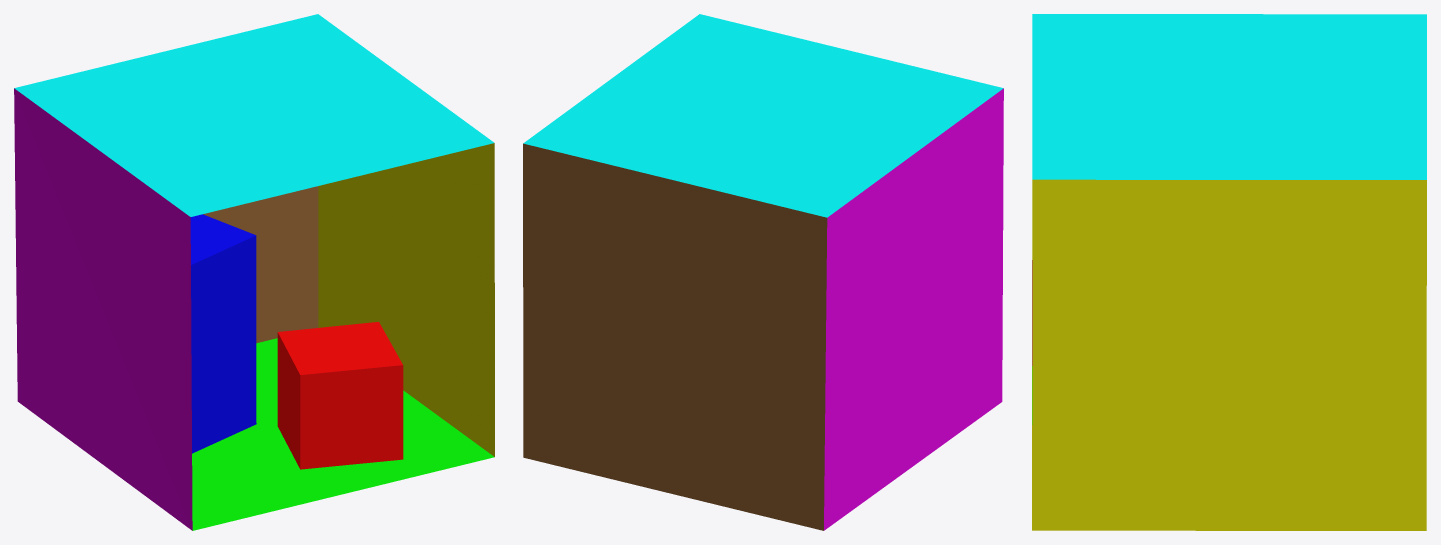
File: cornell-box.obj
3 views of the same model, side by side, from view 1: azimuth 30°, elevation 25°; view 2: azimuth 150°, elevation 25°; view 3: azimuth 270°, elevation 25° (orthographic). The views are drawn at different scales.
Visible parts, largest first — view 1: left_wall, ceiling, right_wall, floor, short_box, tall_box, back_wall; view 2: back_wall, left_wall, ceiling; view 3: right_wall, ceiling.
Boxes of the visible parts, box(x1,y1,x2,y2) form: left_wall: box(14, 88, 192, 530); ceiling: box(14, 14, 494, 216); right_wall: box(318, 143, 494, 456); floor: box(192, 338, 494, 530); short_box: box(277, 322, 403, 469); tall_box: box(190, 214, 256, 453); back_wall: box(203, 186, 318, 343); back_wall: box(523, 143, 827, 530); left_wall: box(824, 88, 1003, 530); ceiling: box(523, 14, 1003, 217); right_wall: box(1032, 179, 1426, 530); ceiling: box(1032, 14, 1426, 179).
Size of the model in its own units: 5.56 by 5.49 by 5.6.
